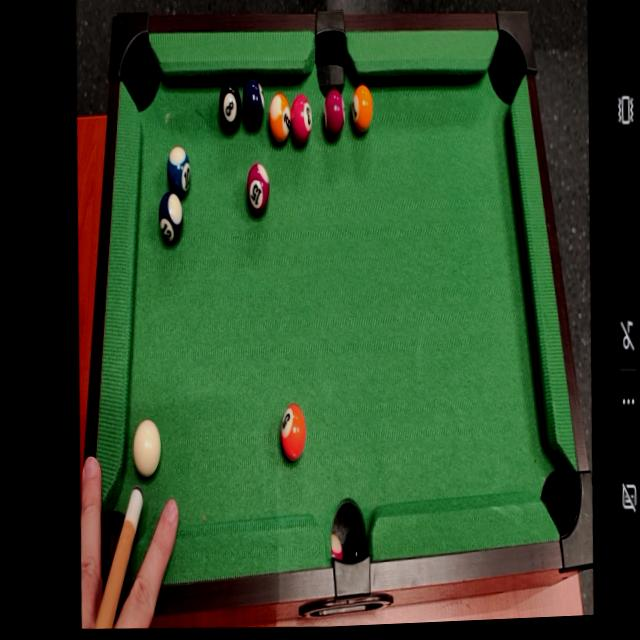cue ball: (128, 418, 163, 480)
other: (277, 401, 310, 465), (155, 184, 187, 248), (215, 75, 246, 139), (238, 72, 267, 139), (266, 89, 297, 151), (164, 138, 195, 200), (241, 156, 272, 217), (347, 81, 376, 146), (317, 85, 348, 142), (288, 90, 314, 146)
